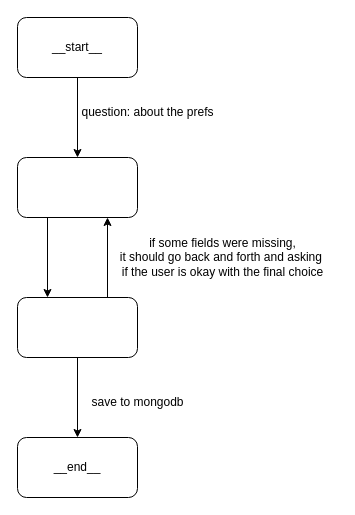
The diagram is 355 pixels wide and 515 high, and some of its shapes have lost their labels. Each missing label, with the box of its shape:
Confirm: (16, 296, 138, 358)
Extract: (16, 156, 138, 218)
